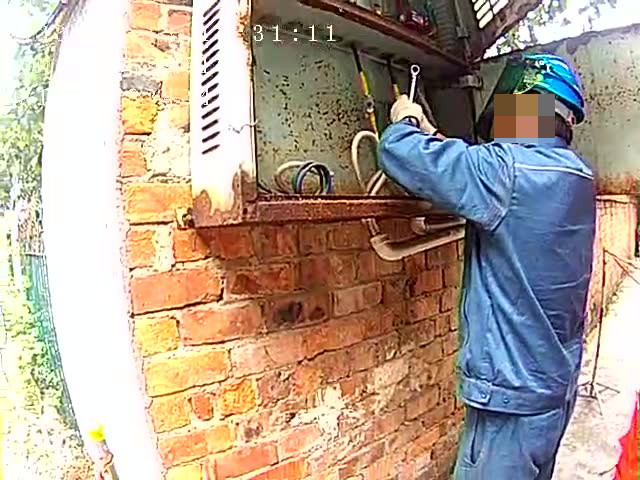downsuit: (461, 409, 569, 480)
halt: (491, 48, 591, 143)
inear: (512, 86, 551, 135)
person: (376, 63, 606, 480)
upsuit: (385, 134, 607, 405)
wglove: (391, 93, 422, 127)
